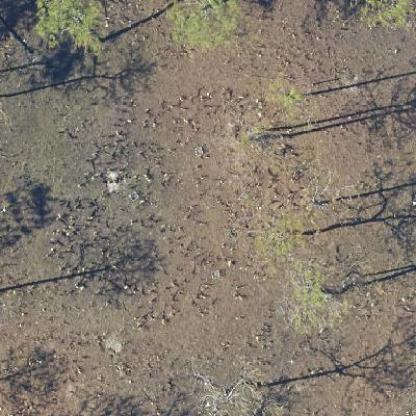tree-top: (279, 259, 340, 333), (28, 0, 109, 54), (164, 0, 242, 54), (193, 359, 266, 414), (254, 204, 309, 259), (266, 78, 308, 116), (360, 0, 412, 30)
